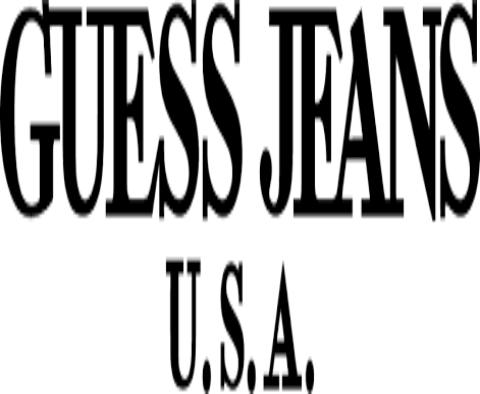GUESS: (1, 3, 254, 220)
